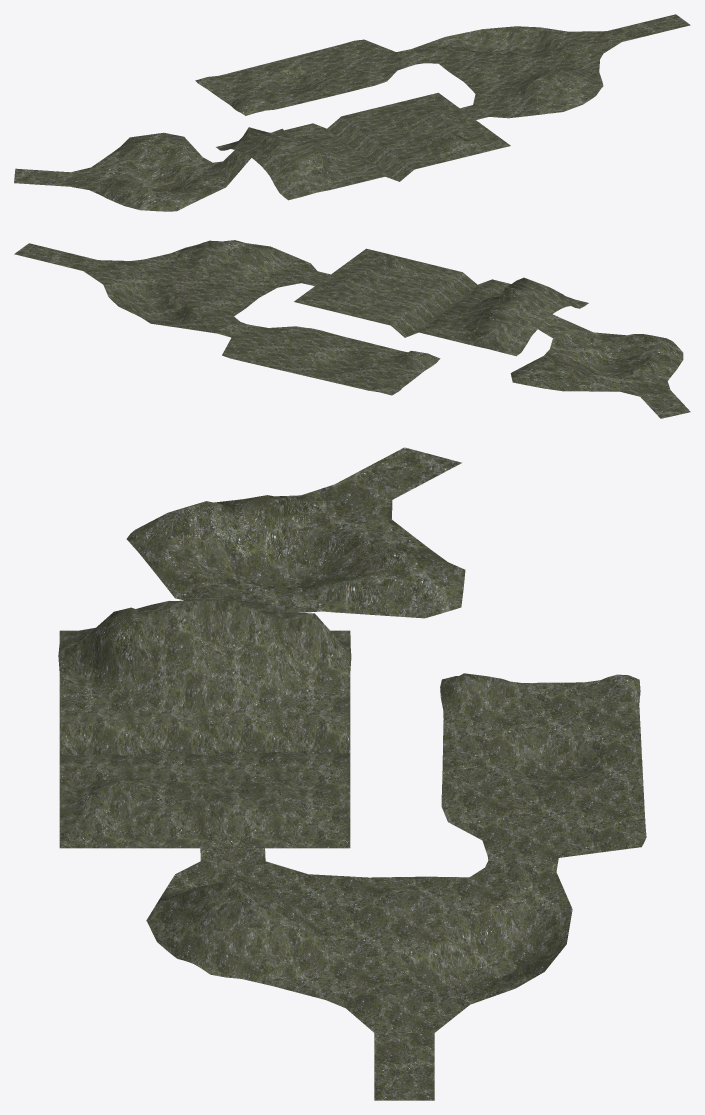
The model's file is forest.comp .glb.
3 renders of one model, top to bottom at view 1: azimuth 30°, elevation 25°; view 2: azimuth 150°, elevation 25°; view 3: azimuth 270°, elevation 25°, orthographic. The views are drawn at different scales.
Visible parts, largest first — view 1: ground; view 2: ground; view 3: ground.
Boxes of the visible parts, box(x1,y1,x2,y2) form: ground: box(14, 14, 690, 211); ground: box(14, 240, 690, 418); ground: box(58, 447, 646, 1100).
Bounding box in the file's own units: 250 × 14.42 × 95.11.
Materials: 1 (1 with a texture image).
